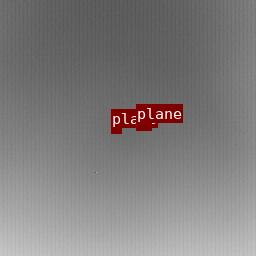plane: (136, 123, 151, 130), (111, 128, 121, 133)
